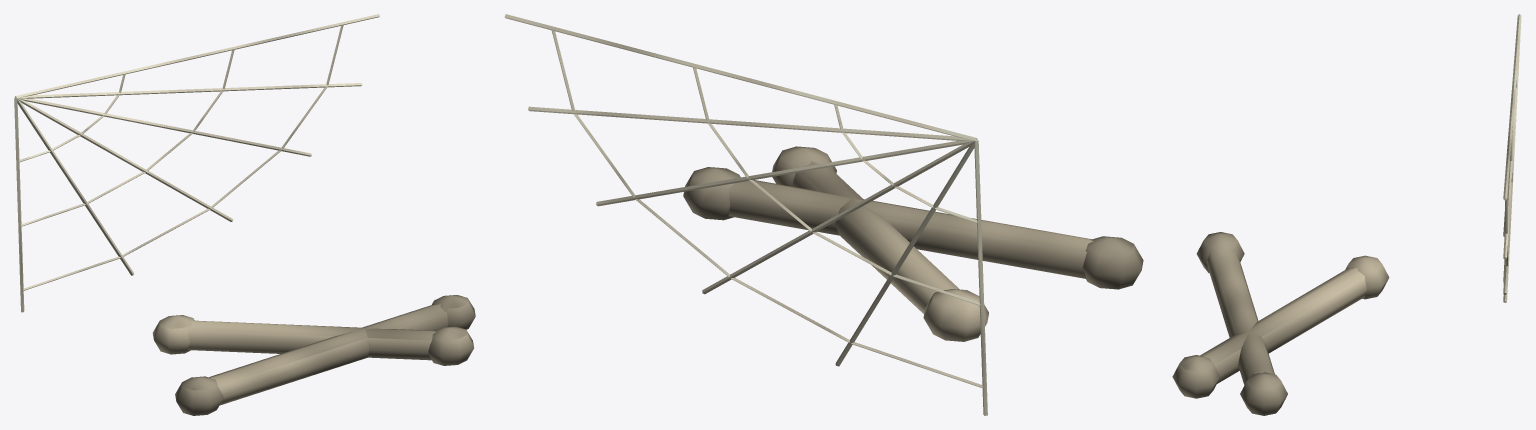
File: Furn_Dun_BonesWeb.fbx
3 renders of one model, left to right at view 1: azimuth 30°, elevation 25°; view 2: azimuth 150°, elevation 25°; view 3: azimuth 270°, elevation 25°, orthographic. The views are drawn at different scales.
Parts seen in each view (by area): view 1: Furn_Dun_BonesWeb; view 2: Furn_Dun_BonesWeb; view 3: Furn_Dun_BonesWeb.
Part boxes in pixels (x1,y1,x2,y2): Furn_Dun_BonesWeb: [14, 14, 475, 415]; Furn_Dun_BonesWeb: [504, 14, 1143, 415]; Furn_Dun_BonesWeb: [1172, 14, 1521, 415].
Bounding box in the file's own units: 1 × 0.6 × 0.8.
Materials: 2 (2 with a texture image).
